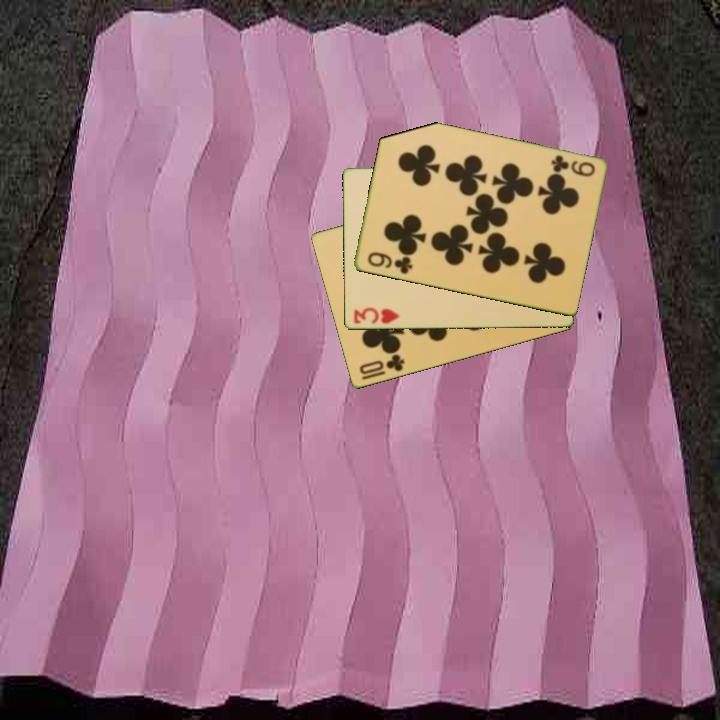10c: (356, 351, 407, 378)
3h: (350, 304, 402, 327)
9c: (547, 151, 598, 180), (364, 249, 415, 277)
